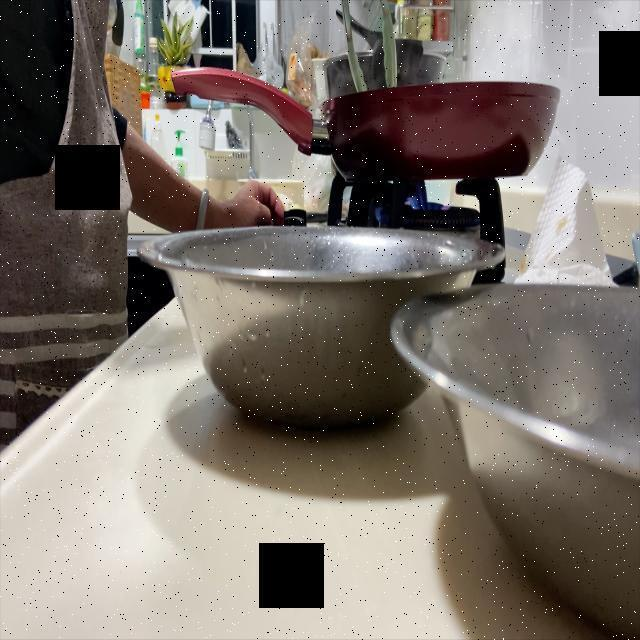Flame: (374, 193, 440, 235)
Pan: (175, 72, 570, 175)
